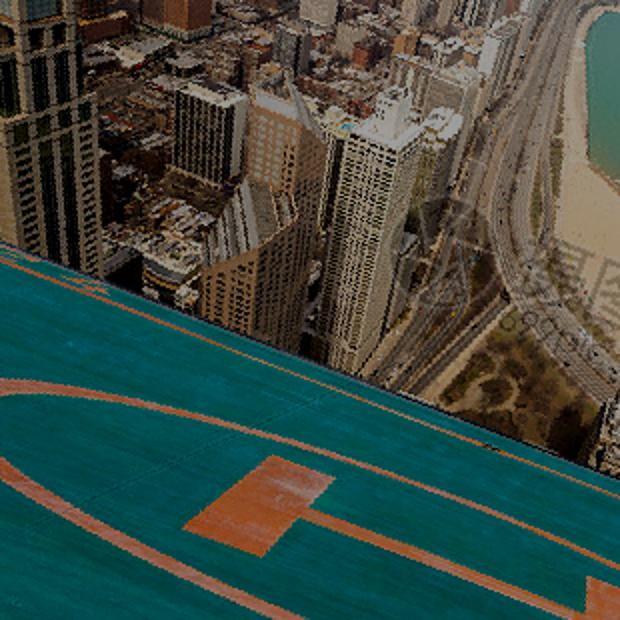Apron: (1, 370, 620, 620)
